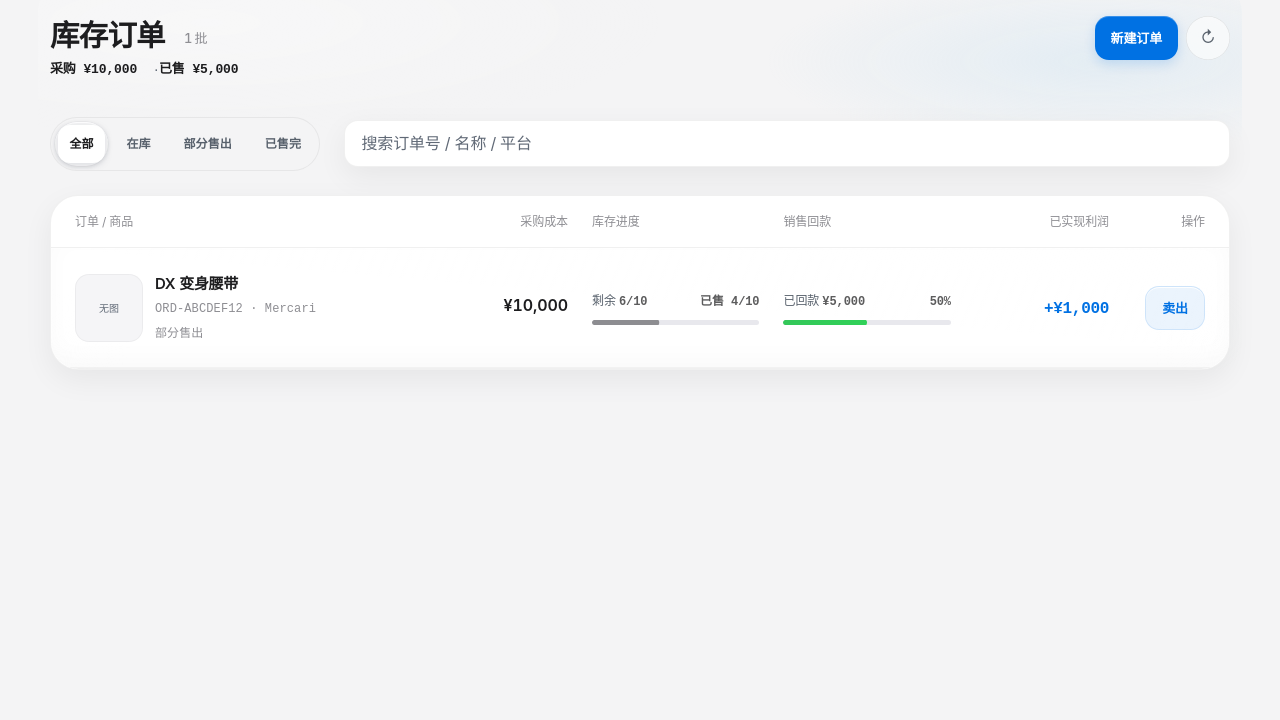
Test: InventoryOrdersWorkspace › uses product name as card title — never the note/remark
The width and height of the screenshot is (1280, 720).
Expected: the text with test id "inventory-order-card-name" reads "DX 变身腰带", top-left (155, 274), bottom-right (238, 293)
Expected: the element with test id "inventory-order-card-name" does not show "缺配件"
Click the button "无图 DX 变身腰带 ORD-ABCDEF12 · Mercari 部分售出": (242, 308) top-left (75, 272), bottom-right (410, 344)
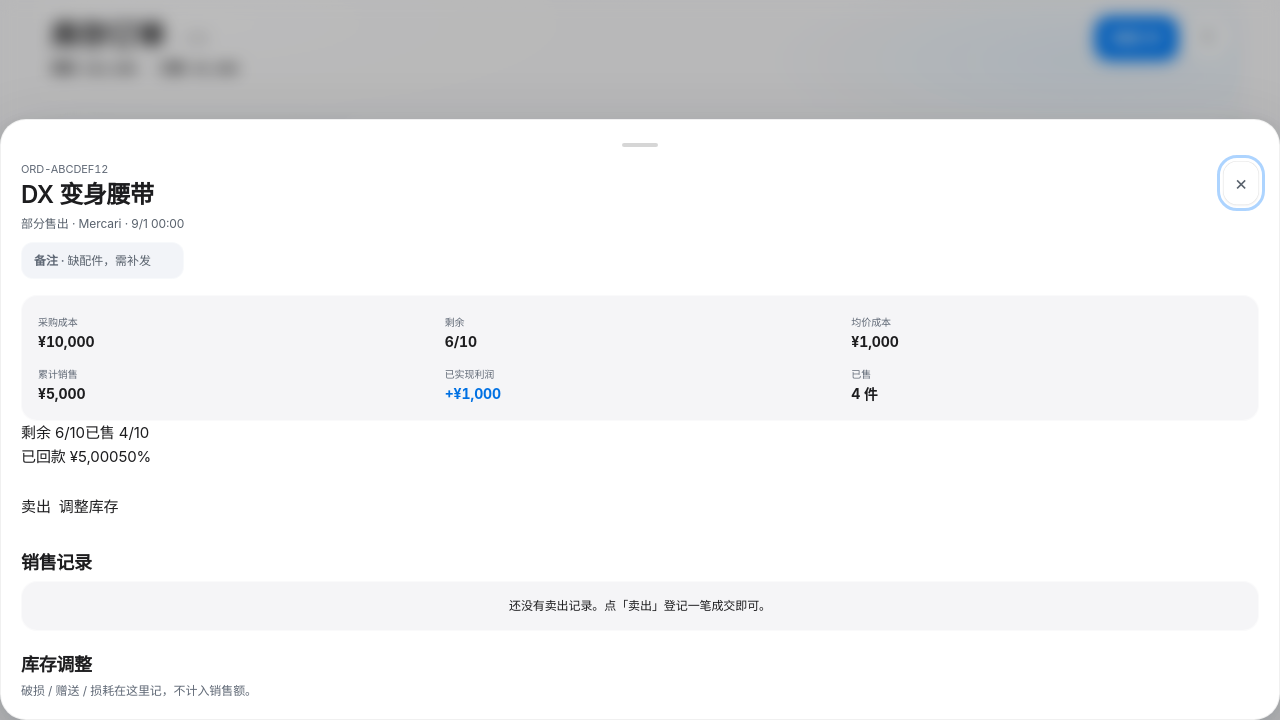
Now the element with test id "inventory-order-detail-note" shows "缺配件，需补发", box top-left (67, 253), bottom-right (151, 268)
Now the heading with id "inventory-order-detail-title" reads "DX 变身腰带", box top-left (21, 180), bottom-right (154, 209)
